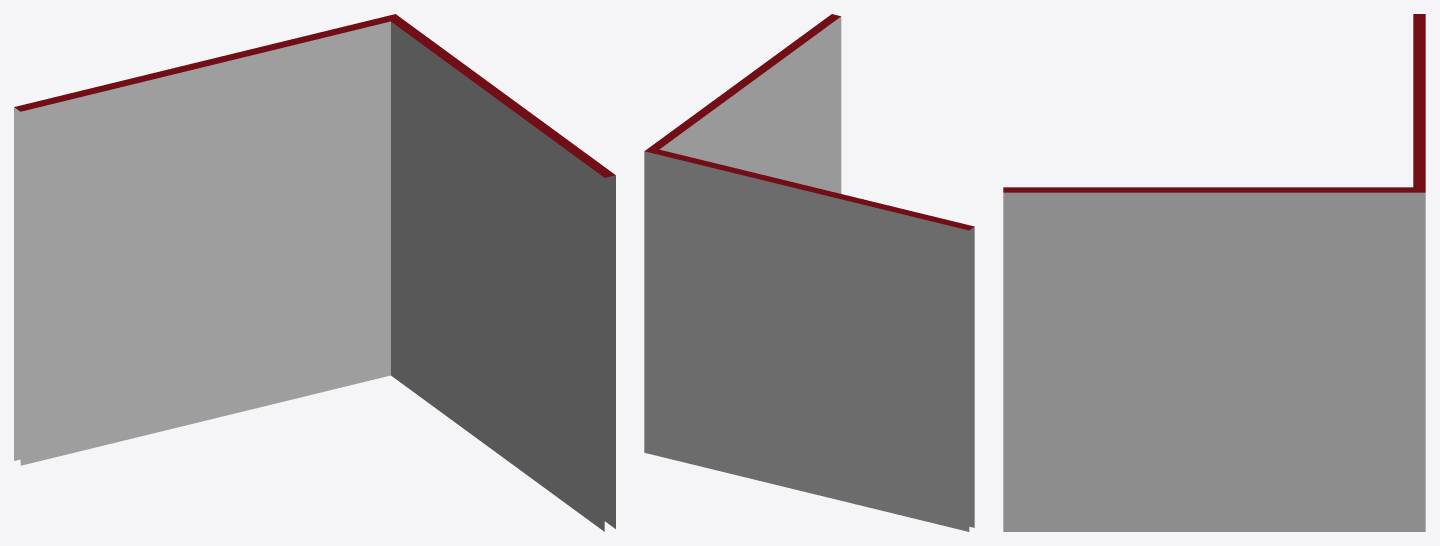
The model's file is Wall02_divider_L.fbx.
The picture shows the model from 3 angles, left to right: view 1: azimuth 30°, elevation 25°; view 2: azimuth 150°, elevation 25°; view 3: azimuth 270°, elevation 25°; orthographic projection. The views are drawn at different scales.
Visible parts, largest first — view 1: Cube.030; view 2: Cube.030; view 3: Cube.030.
Part boxes in pixels (x1,y1,x2,y2): Cube.030: (14, 14, 615, 531); Cube.030: (644, 14, 974, 531); Cube.030: (1003, 14, 1425, 531).
Bounding box in the file's own units: 4.06 × 3.6 × 4.06.
